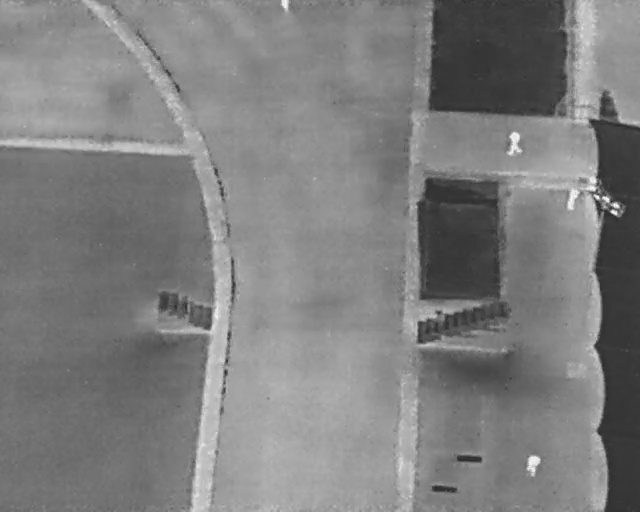Person: (506, 129, 524, 155), (564, 186, 581, 212), (525, 452, 541, 478), (279, 0, 292, 11)
